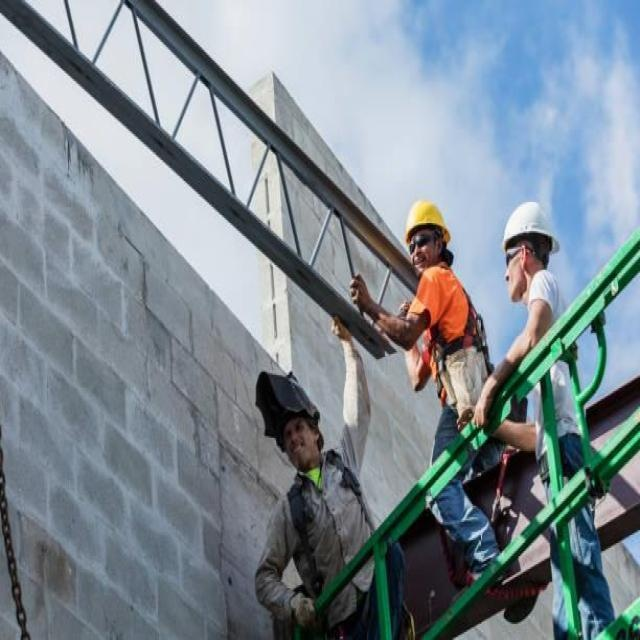Arnes_seguridad: (285, 446, 384, 632), (420, 265, 493, 422)
